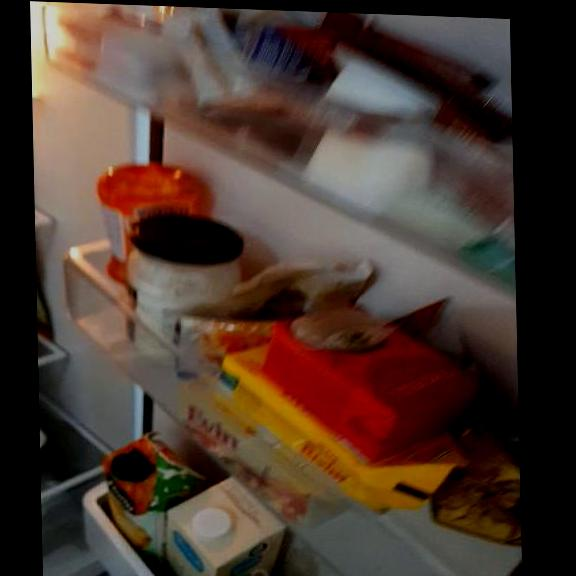cream: (267, 306, 483, 452)
juice: (105, 435, 168, 549)
milk: (172, 477, 278, 576)
